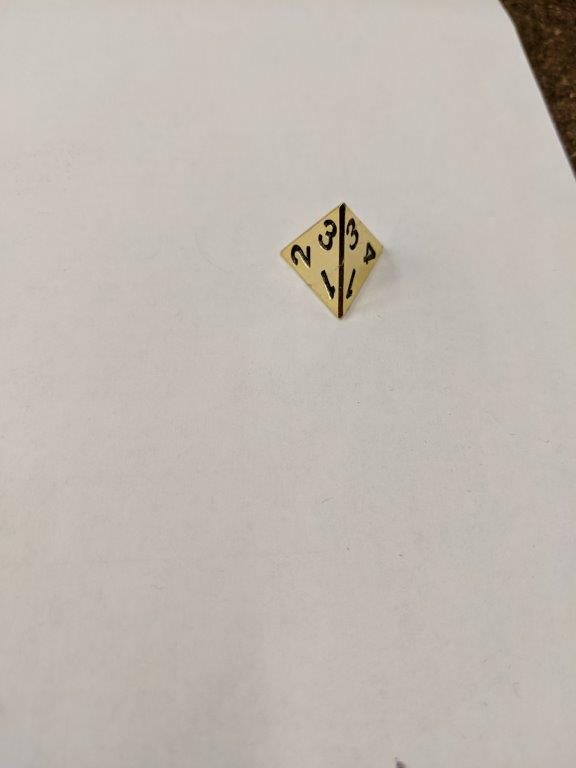d4-3: (279, 200, 385, 325)
